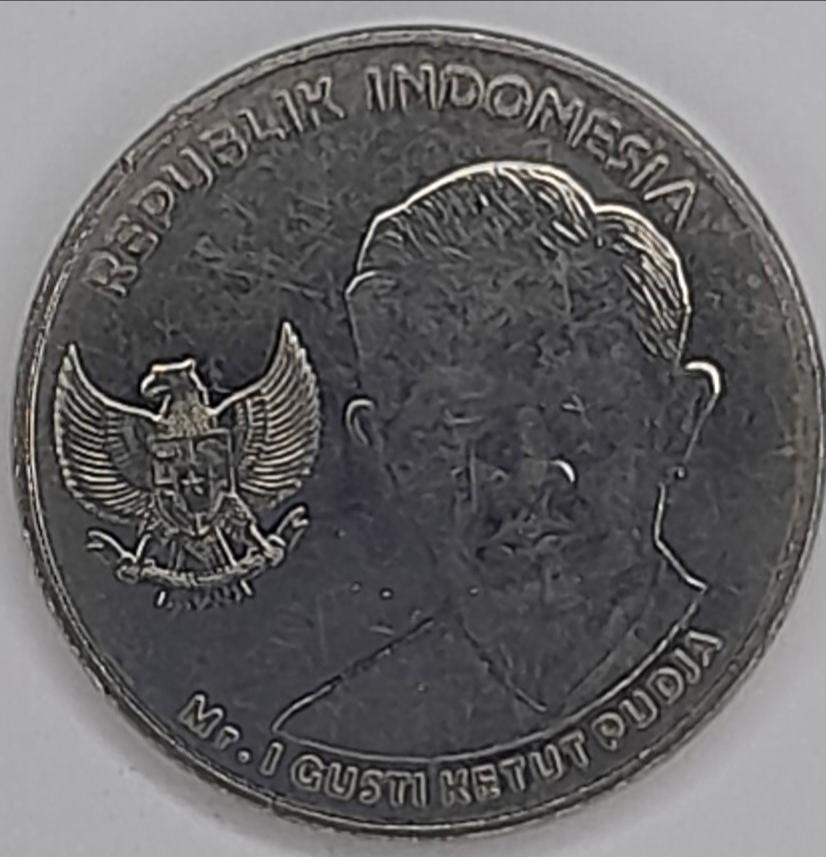coin_1000_e2016: (14, 17, 815, 857)
